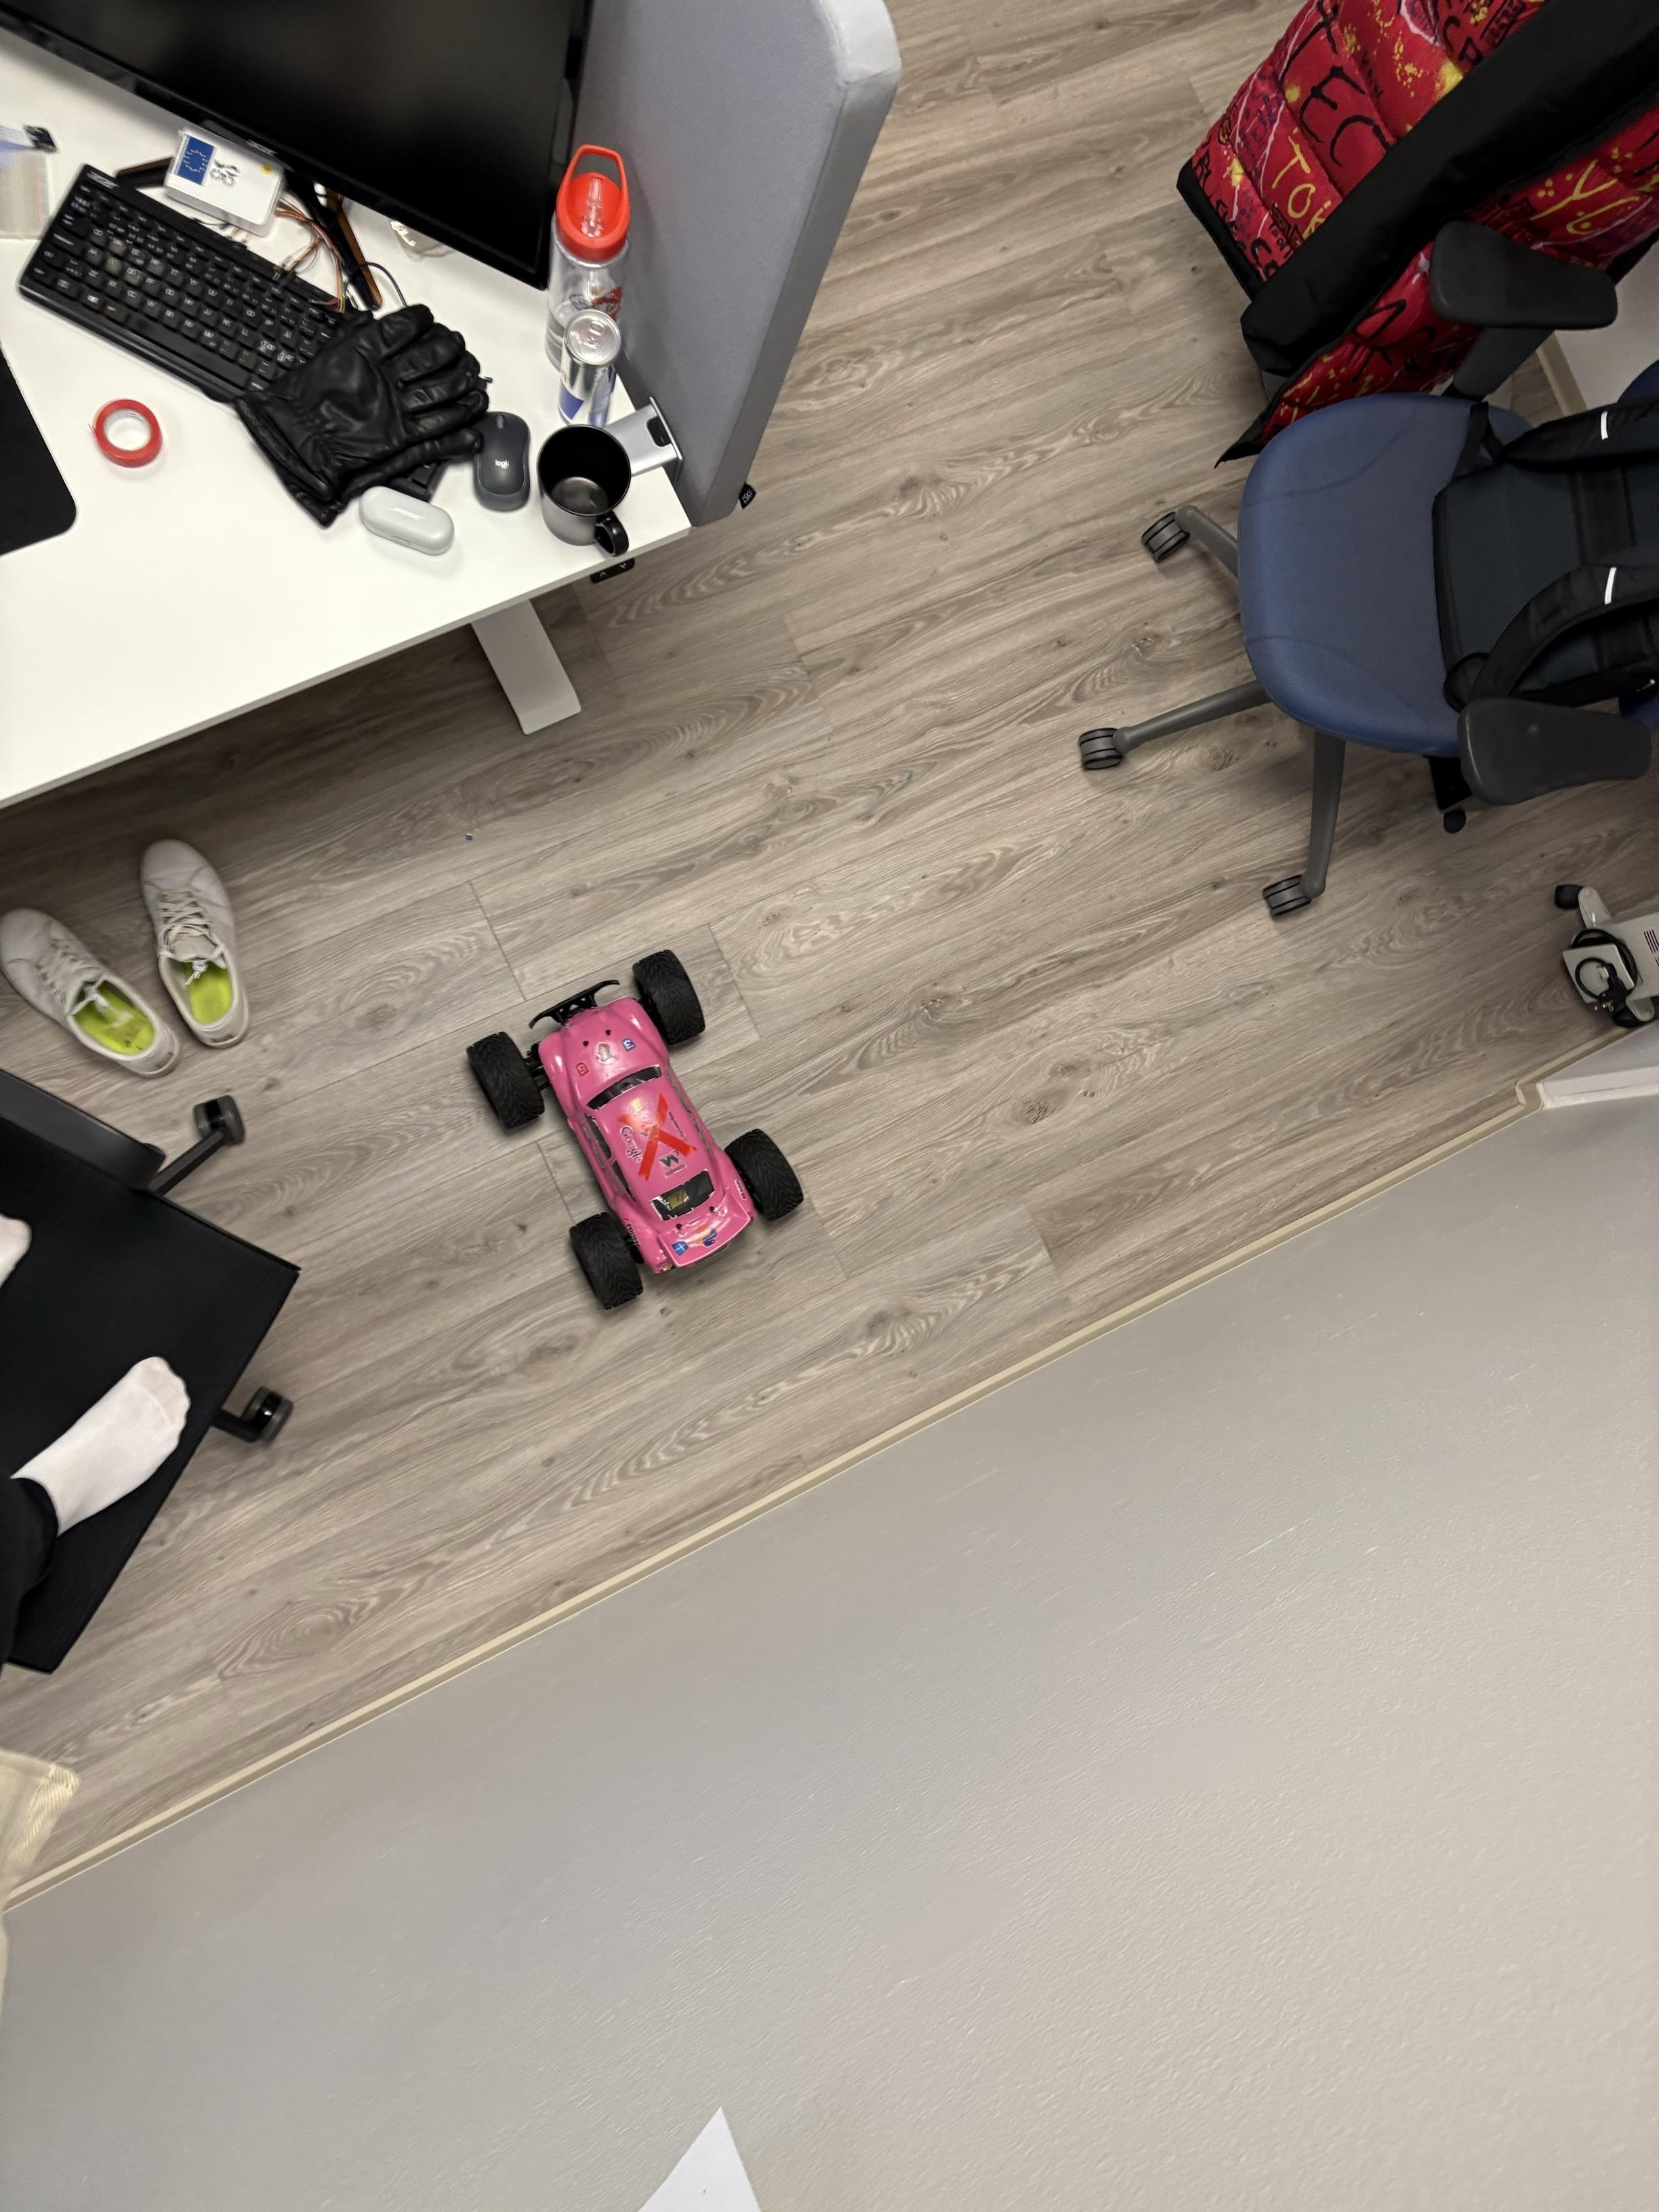Car: (413, 898, 871, 1369)
